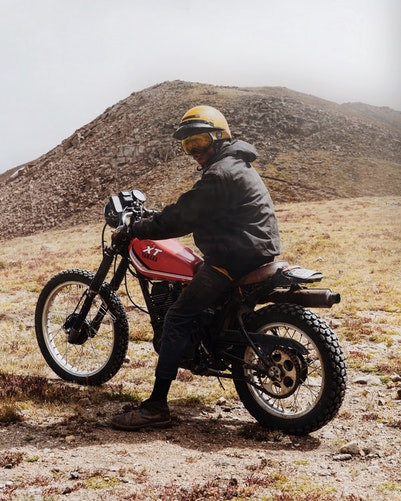helmet: (172, 110, 241, 159)
